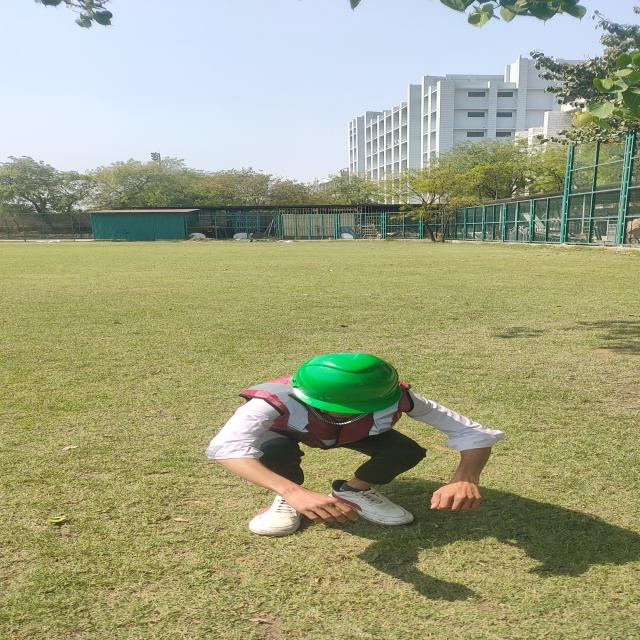safe: (207, 353, 492, 534)
